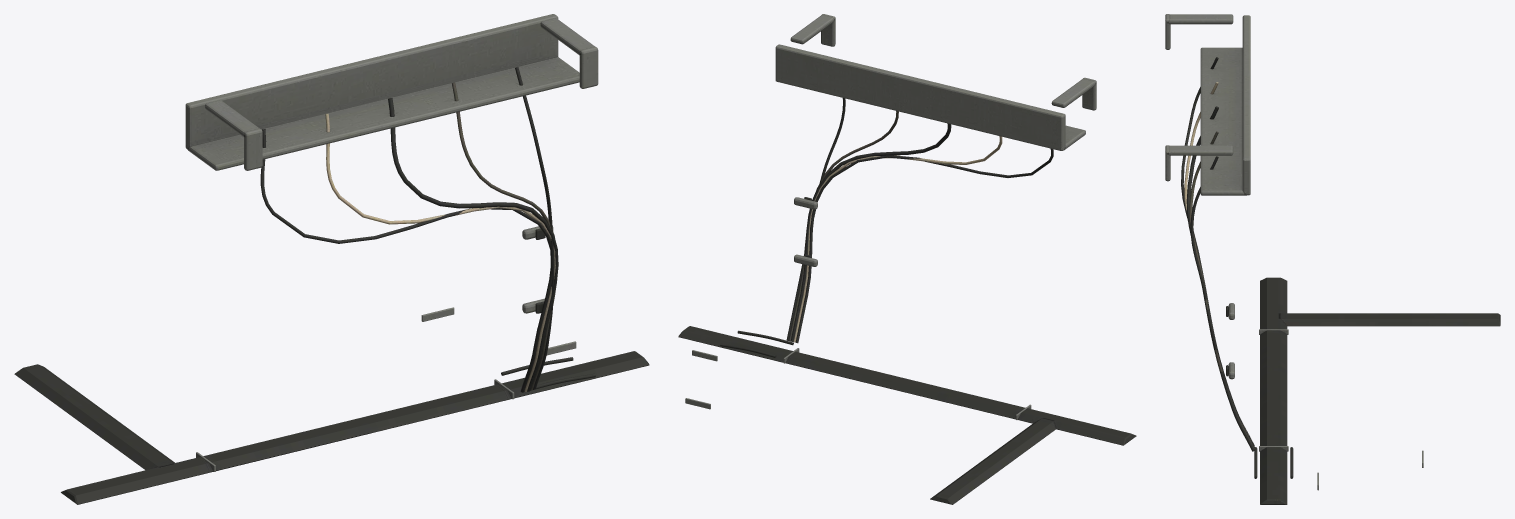
The model's file is props-cable-run.glb.
The picture shows the model from 3 angles, left to right: view 1: azimuth 30°, elevation 25°; view 2: azimuth 150°, elevation 25°; view 3: azimuth 270°, elevation 25°; orthographic projection. The views are drawn at different scales.
Visible parts, largest first — view 1: case-baked; view 2: case-baked; view 3: case-baked.
Part boxes in pixels (box(x1,y1,x2,y2)): case-baked: box(14, 14, 649, 504); case-baked: box(678, 14, 1136, 504); case-baked: box(1165, 14, 1500, 504).
Bounding box in the file's own units: 1.18 × 0.7615 × 0.7452.
1 material, 1 textured.
